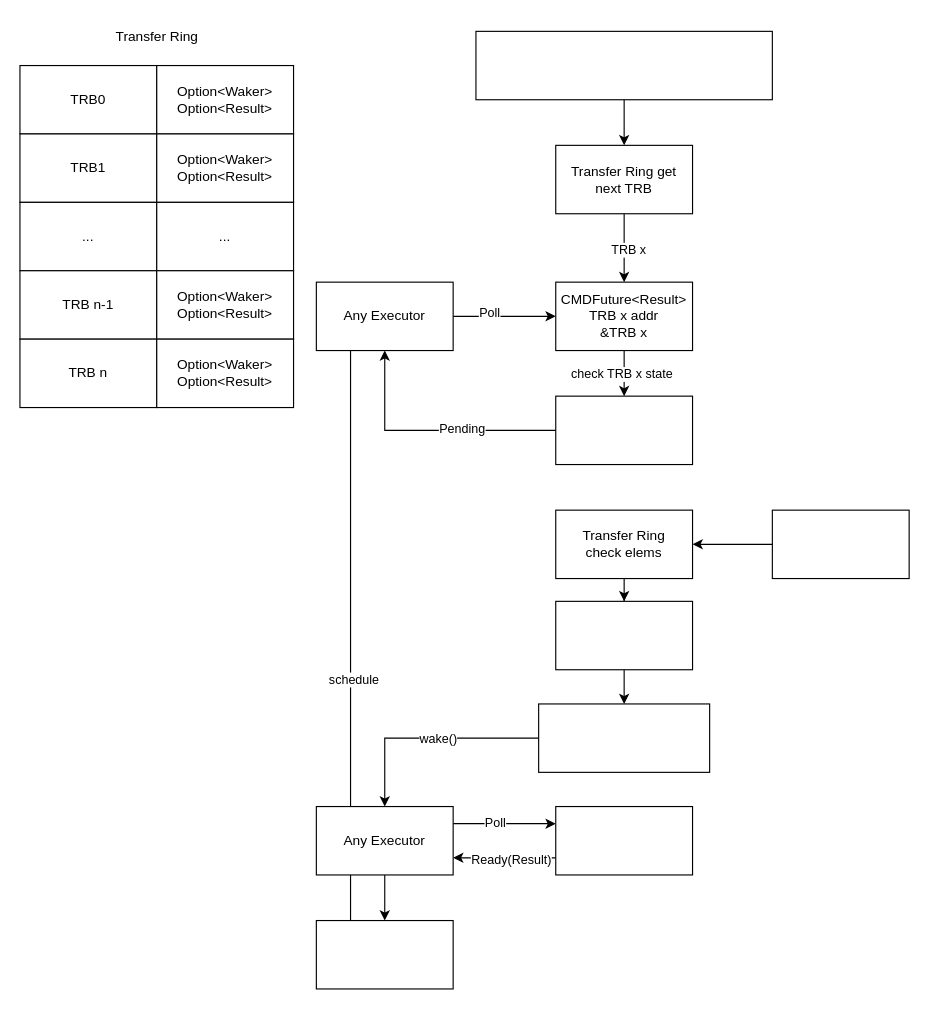
Some shapes in this 929 by 1009 pixel diagram are drawn without their labels. The shapes that lost their labels are listed below. From the top down, each one's box as (x1, y1, x2, y2) in pixels, then its label:
(475, 30, 772, 100): fn post_cmd()->CMDFuture<Result> impl Future for CMDFuture
(555, 395, 693, 465): CMDFuture<Result> set Some(waker)
(771, 509, 909, 579): event Irq
(555, 600, 693, 670): TRB x got result
(538, 703, 710, 772): TRBx.set Some(Result) TRBx.waker.wake()
(555, 805, 693, 875): CMDFuture
(315, 919, 453, 989): Result
